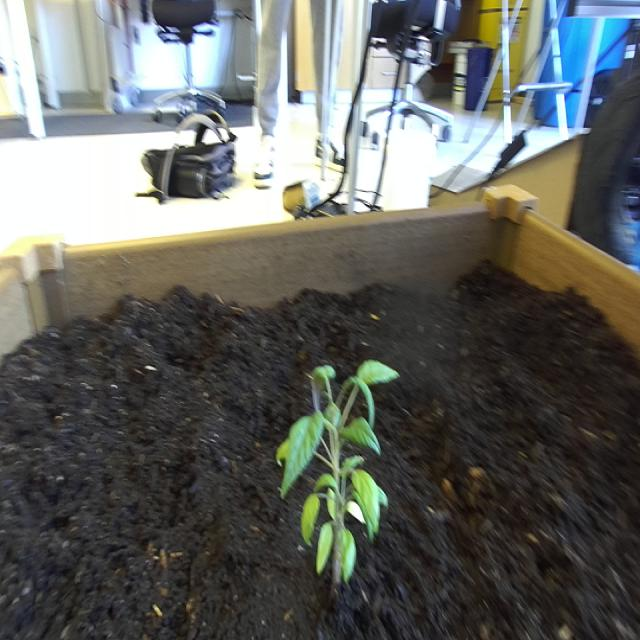Healthy: (268, 344, 408, 606)
